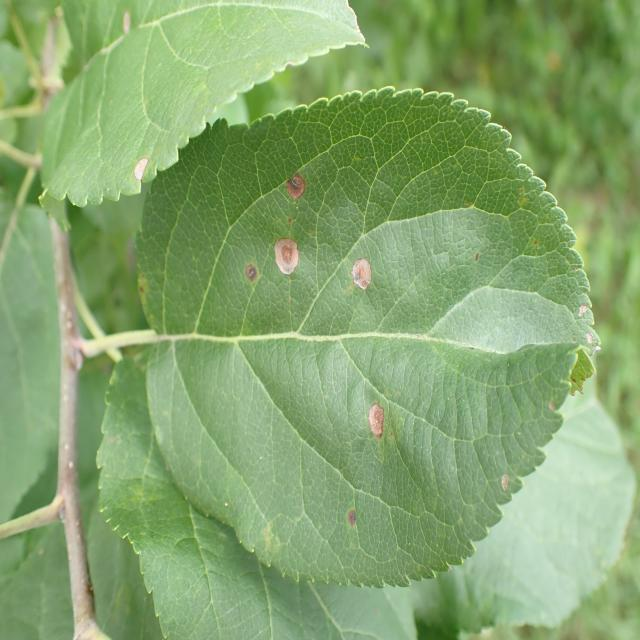Black Rot: (264, 220, 306, 296), (343, 242, 388, 308), (358, 390, 398, 453), (282, 164, 314, 210), (238, 256, 262, 302), (342, 497, 360, 534)
